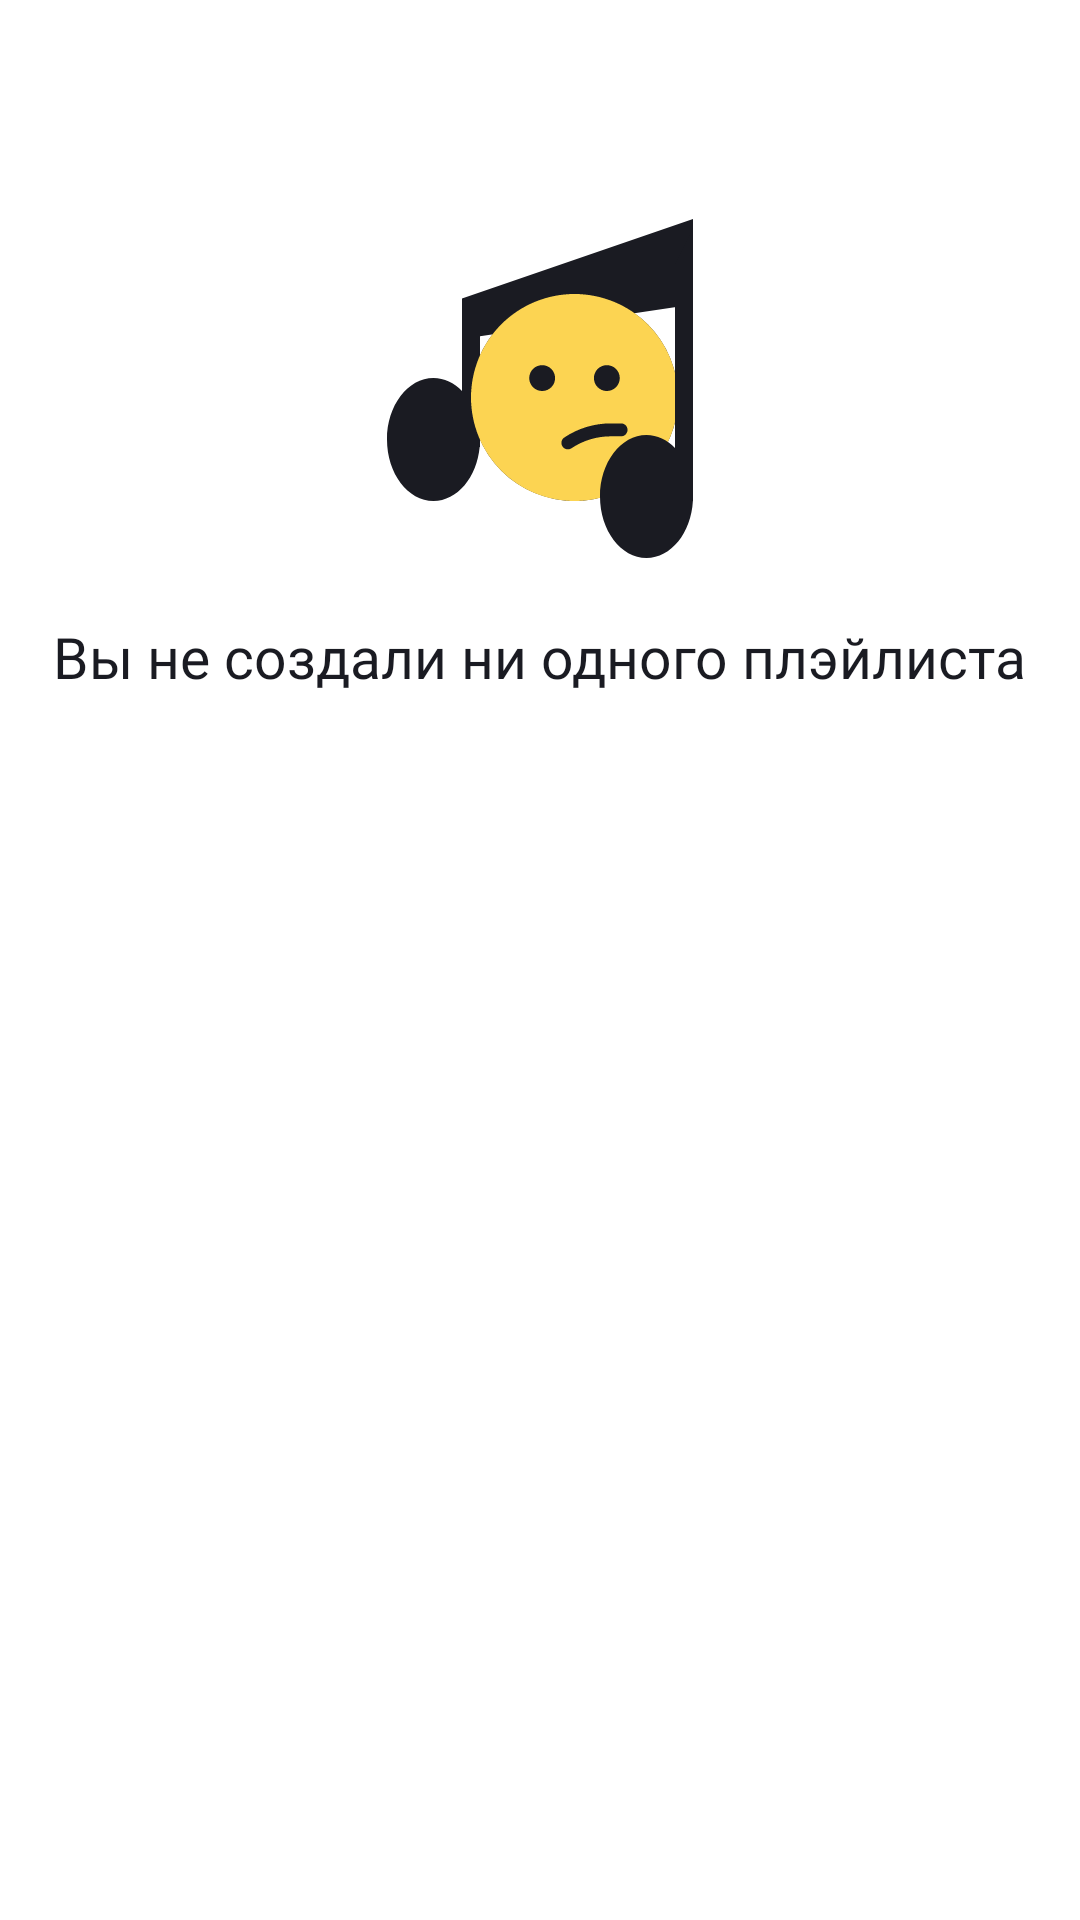

Named icons in this screenshot (1080 x 1920) and their bounding boxes, (x1, y1, x2, y2):
empty results error: (387, 219, 693, 558)
